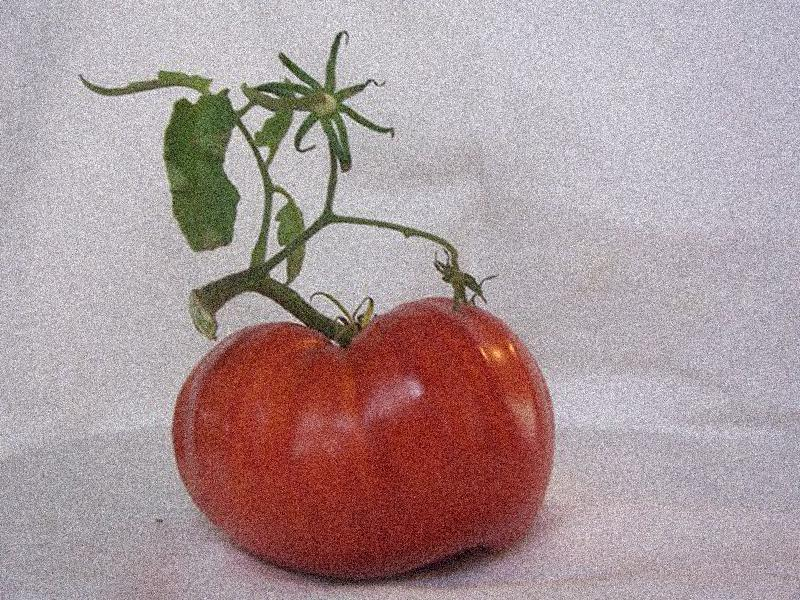Tomato: (170, 298, 555, 581)
